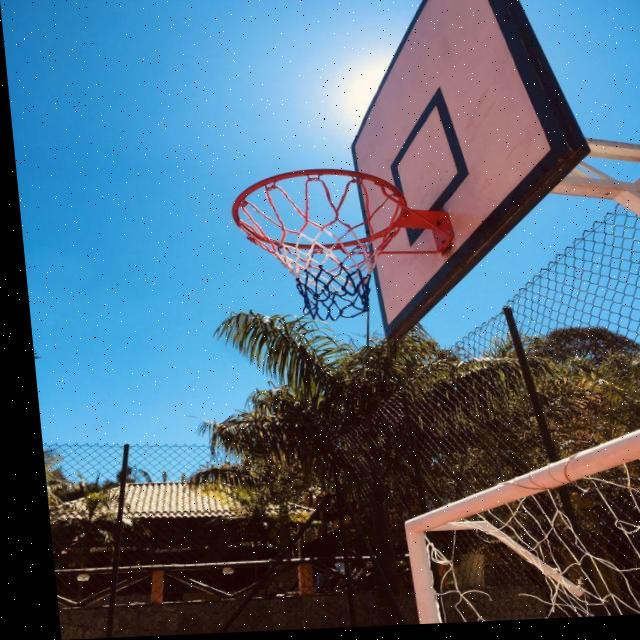hoop: (184, 169, 504, 347)
